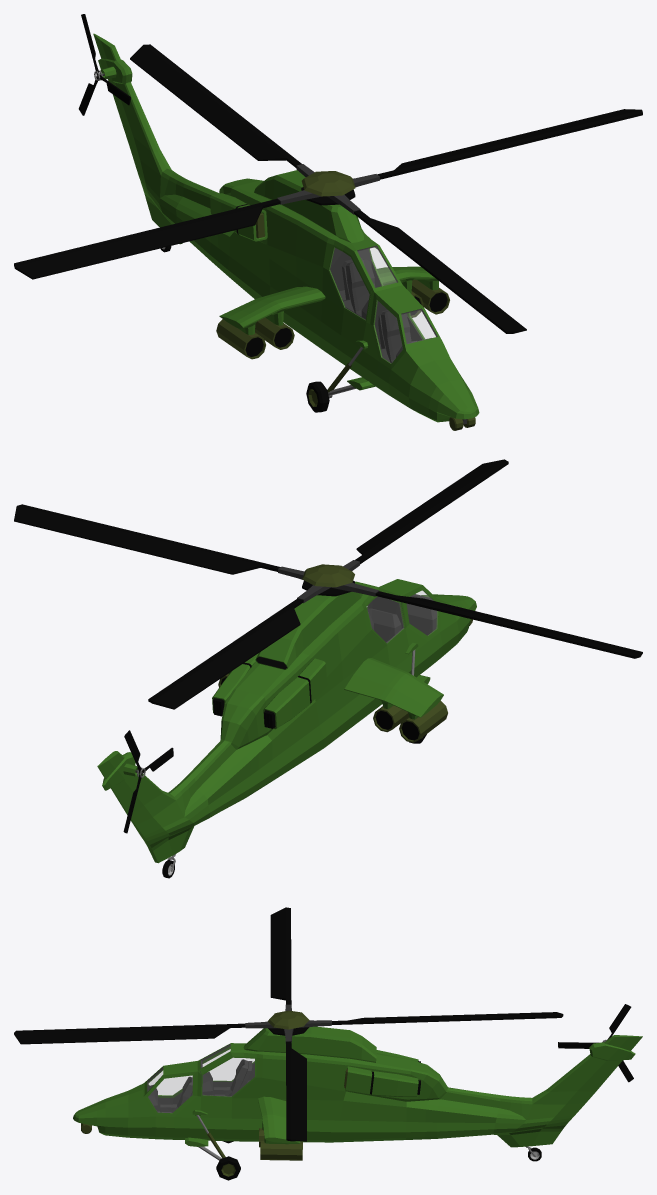
The picture shows the model from 3 angles, top to bottom: view 1: azimuth 30°, elevation 25°; view 2: azimuth 150°, elevation 25°; view 3: azimuth 270°, elevation 25°; orthographic projection. The views are drawn at different scales.
Visible parts, largest first — view 1: Circle, Circle.001, Circle.009, Circle.011, Landing gear _F, Circle.002; view 2: Circle, Circle.001, Circle.009, Circle.011, Circle.002; view 3: Circle, Circle.001, Circle.004, Circle.005, Landing gear _F, Circle.002, Circle.009, Circle.011.
Part boxes in pixels (x1,y1,x2,y2): Circle: [93, 33, 479, 430]; Circle.001: [14, 44, 642, 333]; Circle.009: [328, 240, 372, 322]; Circle.011: [370, 292, 405, 369]; Landing gear _F: [306, 347, 363, 412]; Circle.002: [78, 14, 130, 115]; Circle: [97, 579, 476, 863]; Circle.001: [14, 459, 642, 709]; Circle.009: [364, 587, 405, 645]; Circle.011: [402, 585, 440, 641]; Circle.002: [123, 730, 173, 833]; Circle: [73, 1026, 642, 1160]; Circle.001: [14, 907, 563, 1141]; Circle.004: [200, 1052, 256, 1097]; Circle.005: [144, 1071, 197, 1116]; Landing gear _F: [196, 1115, 240, 1180]; Circle.002: [558, 1004, 633, 1082]; Circle.009: [202, 1046, 254, 1081]; Circle.011: [148, 1069, 192, 1097].
Bounding box in the file's own units: 1429 × 429 × 1635.
